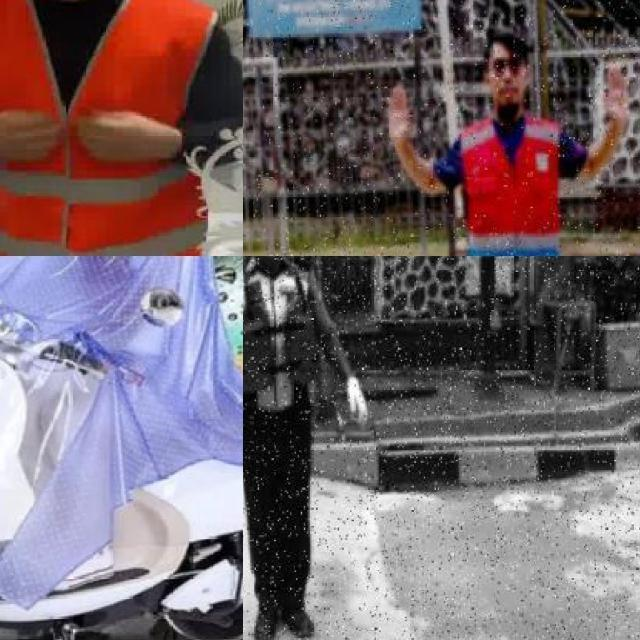apron: (342, 374, 372, 424)
